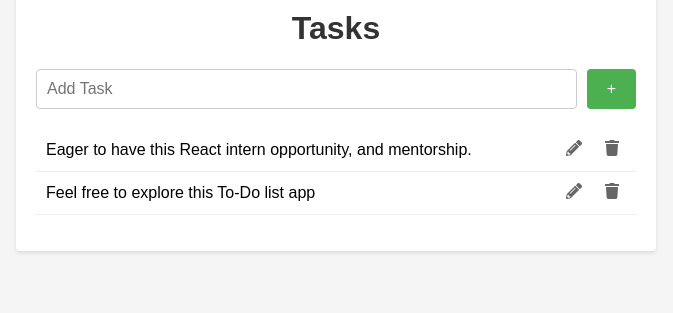
App › should add task to list when add button is clicked
In the field with placeholder "Add Task": (306, 89) [36,69,577,109], type "New Task"
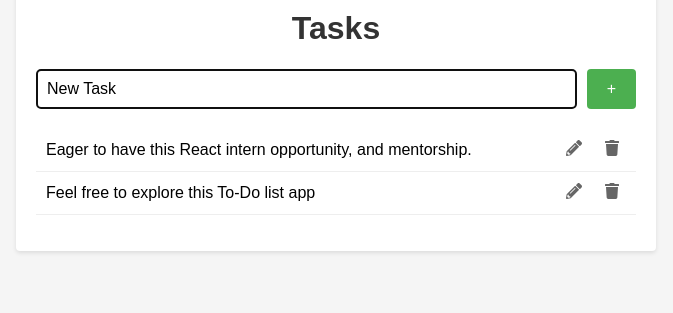
Click the button "+": click(611, 89) [587,69,636,109]
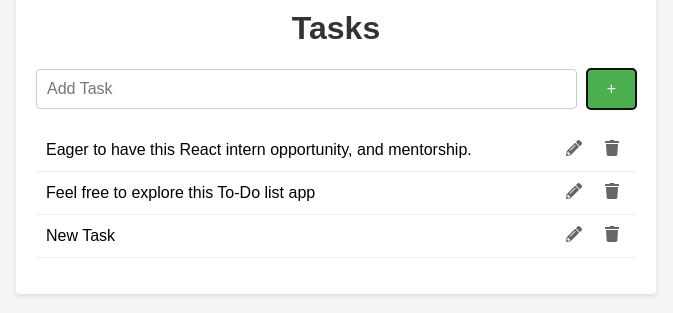
expect the text "New Task" is shown: met, box [46,227,115,245]
